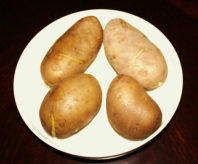boiled potatoes: (104, 20, 168, 82), (46, 20, 104, 83), (106, 76, 162, 138), (44, 76, 97, 135)
